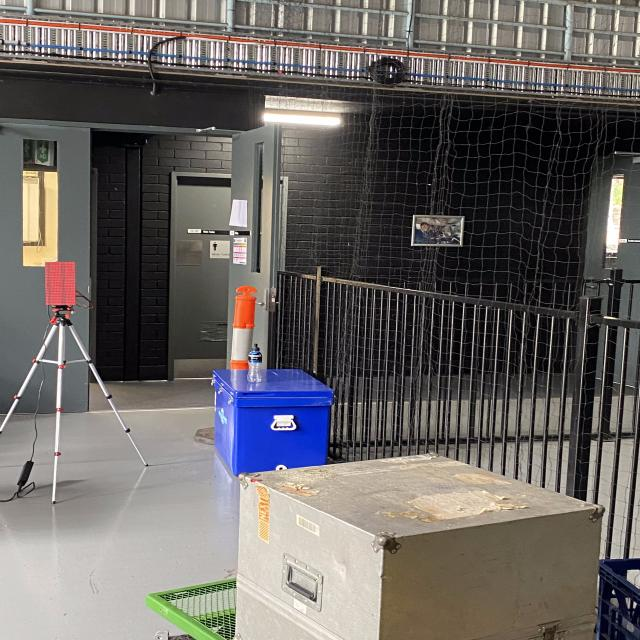matrix: (38, 257, 85, 309)
